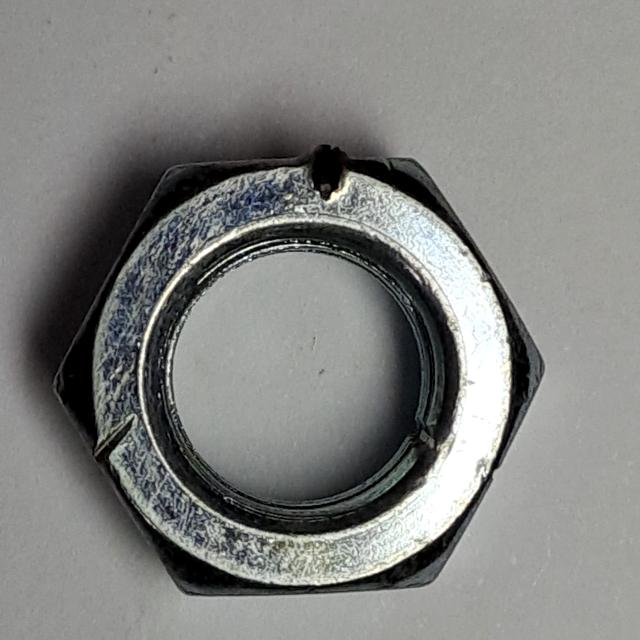Scratches: (40, 137, 563, 614)
